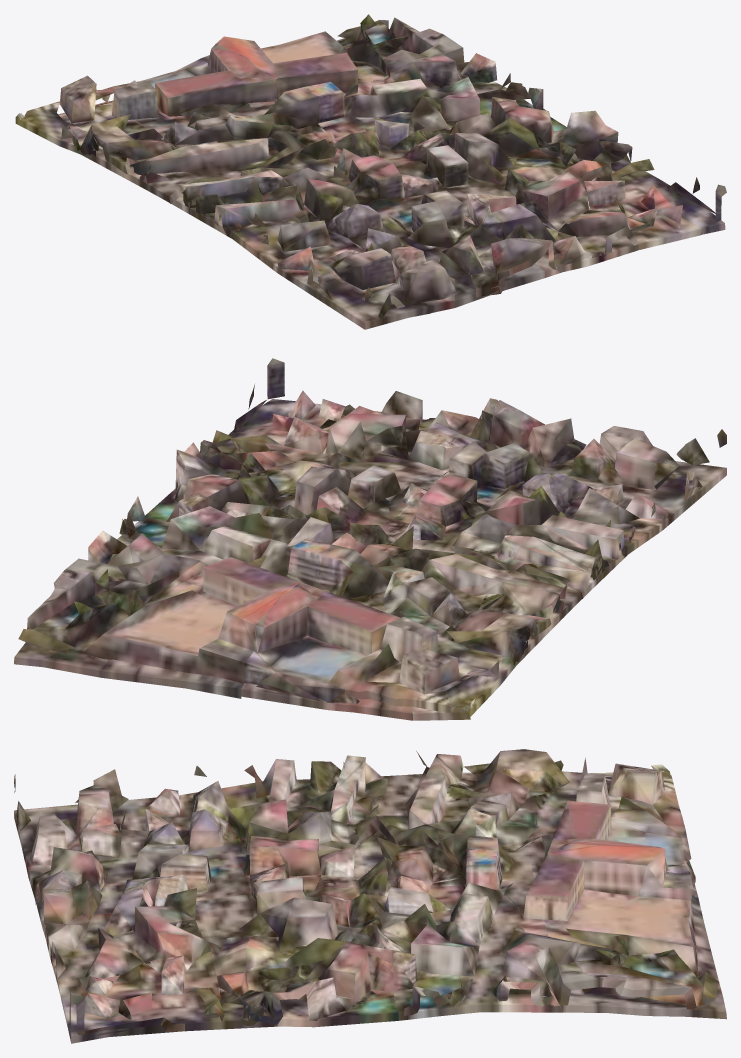
The picture shows the model from 3 angles, top to bottom: view 1: azimuth 30°, elevation 25°; view 2: azimuth 150°, elevation 25°; view 3: azimuth 270°, elevation 25°; orthographic projection. The views are drawn at different scales.
Parts seen in each view (by area): view 1: Mesh_0; view 2: Mesh_0; view 3: Mesh_0.
Part boxes in pixels (left/top/right/bottom): Mesh_0: left=15, top=14, right=726, bottom=329; Mesh_0: left=14, top=358, right=726, bottom=720; Mesh_0: left=14, top=749, right=726, bottom=1043.
Size of the model in its own units: 268 by 38.25 by 330.
Materials: 2 (2 with a texture image).
